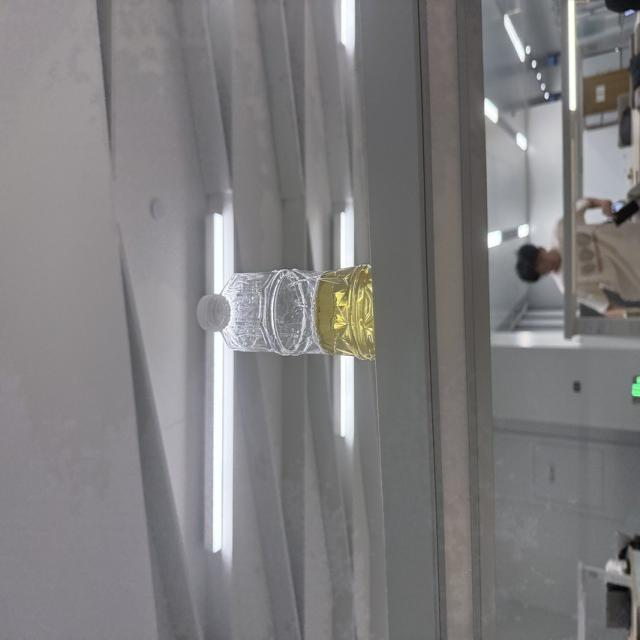low: (198, 264, 374, 360)
